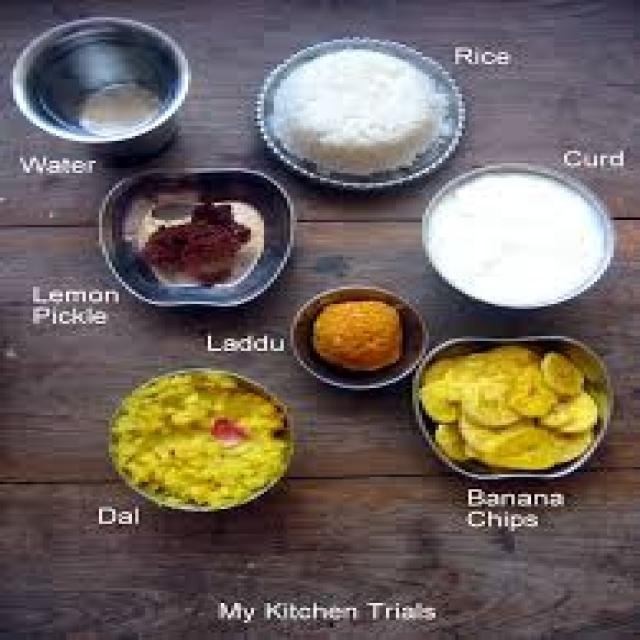curd: (414, 172, 622, 311)
dal: (109, 368, 284, 505)
pickle: (132, 197, 274, 293), (304, 299, 416, 374)
rice: (267, 51, 450, 182)
sweet: (301, 299, 416, 373)
